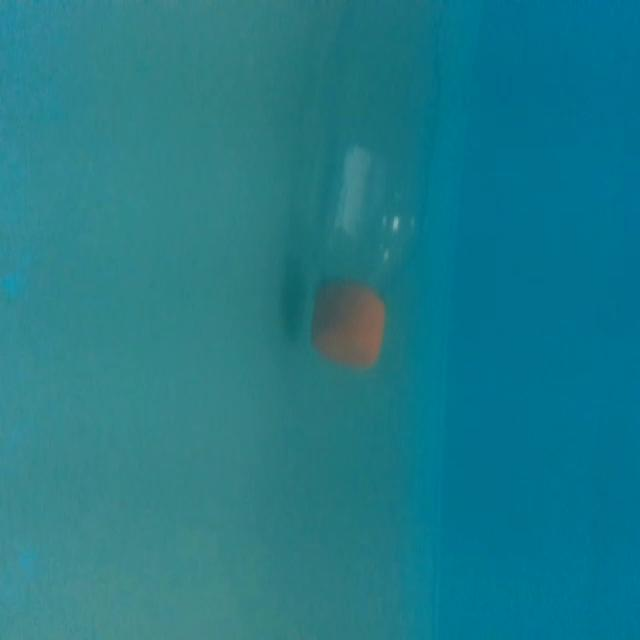plastic bottle: (272, 0, 489, 381)
